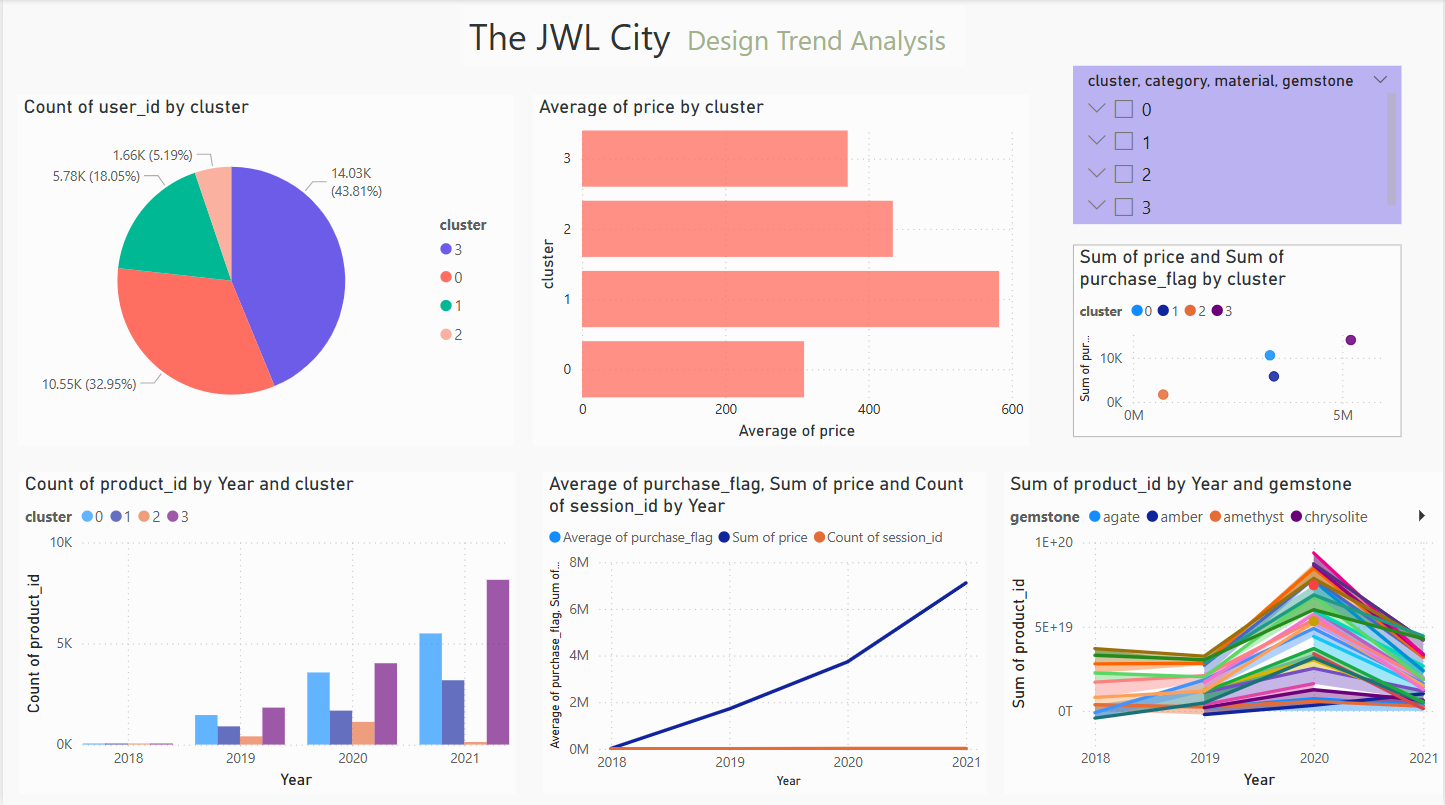

What the dashboard file says about the page in this screenshot:
{"tool":"powerbi","page":{"name":"Page 1","canvas":[1280,720],"ordinal":0},"visuals":[{"type":"pieChart","fields":{"Category":["clustered_jewelry_data.cluster"],"Y":["CountNonNull(clustered_jewelry_data.user_id)"]},"box":[13.5,86.8,440.7,312.2],"z":0},{"type":"barChart","fields":{"Category":["clustered_jewelry_data.cluster"],"Y":["Avg(clustered_jewelry_data.price)"]},"box":[471.1,86.8,440.7,312.2],"z":1000},{"type":"lineChart","fields":{"Category":["clustered_jewelry_data.date.Variation.Date Hierarchy.Year","clustered_jewelry_data.date.Variation.Date Hierarchy.Month"],"Y":["Avg(clustered_jewelry_data.purchase_flag)","Sum(clustered_jewelry_data.price)","CountNonNull(clustered_jewelry_data.session_id)"]},"box":[480.2,422.1,394.2,286],"z":2000},{"type":"clusteredColumnChart","fields":{"Category":["clustered_jewelry_data.date.Variation.Date Hierarchy.Year","clustered_jewelry_data.date.Variation.Date Hierarchy.Month"],"Series":["clustered_jewelry_data.cluster"],"Y":["CountNonNull(clustered_jewelry_data.product_id)"]},"box":[14,422.1,440.7,286],"z":3000},{"type":"stackedAreaChart","fields":{"Series":["clustered_jewelry_data.gemstone"],"Y":["Sum(clustered_jewelry_data.product_id)"],"Category":["clustered_jewelry_data.date.Variation.Date Hierarchy.Year"]},"box":[889.5,422.1,390.7,286],"z":4000},{"type":"slicer","fields":{"Values":["clustered_jewelry_data.cluster","clustered_jewelry_data.category","clustered_jewelry_data.material","clustered_jewelry_data.gemstone"]},"box":[951.2,61.6,291.9,140.7],"z":5000},{"type":"scatterChart","fields":{"X":["Sum(clustered_jewelry_data.price)"],"Y":["Sum(clustered_jewelry_data.purchase_flag)"],"Series":["clustered_jewelry_data.cluster"]},"box":[951.3,219.8,291.9,171.3],"z":6000},{"type":"textbox","box":[409.3,8.1,446.5,53.5],"z":7000}]}

Visuals, with their boxes in screenshot pixels (x1, y1, x2, y2), scaled from the page's 1280x720 canvas onto the 1445x805 screenshot:
pieChart - clustered_jewelry_data.cluster x CountNonNull(clustered_jewelry_data.user_id): locate(15, 97, 513, 446)
barChart - clustered_jewelry_data.cluster x Avg(clustered_jewelry_data.price): locate(532, 97, 1029, 446)
lineChart - clustered_jewelry_data.date.Variation.Date Hierarchy.Year x clustered_jewelry_data.date.Variation.Date Hierarchy.Month: locate(542, 472, 987, 792)
clusteredColumnChart - clustered_jewelry_data.date.Variation.Date Hierarchy.Year x clustered_jewelry_data.date.Variation.Date Hierarchy.Month: locate(16, 472, 513, 792)
stackedAreaChart - clustered_jewelry_data.gemstone x Sum(clustered_jewelry_data.product_id): locate(1004, 472, 1444, 792)
slicer - clustered_jewelry_data.cluster x clustered_jewelry_data.category: locate(1074, 69, 1403, 226)
scatterChart - Sum(clustered_jewelry_data.price) x Sum(clustered_jewelry_data.purchase_flag): locate(1074, 246, 1403, 437)
textbox: locate(462, 9, 966, 69)
